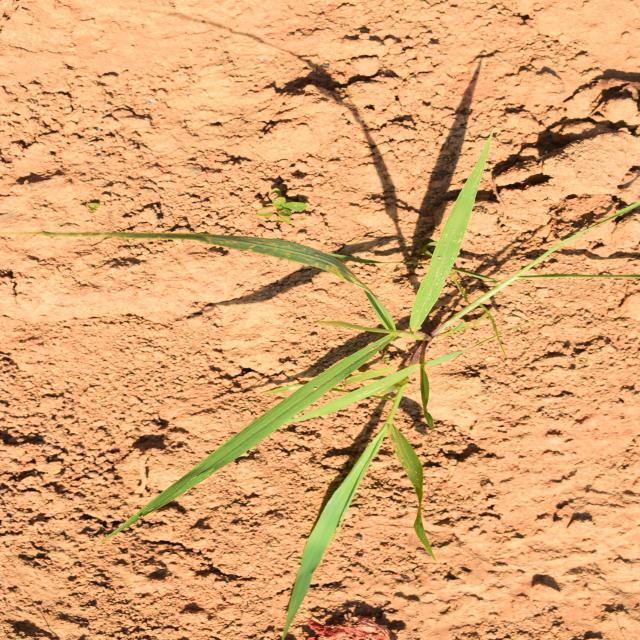green_foxtail: (173, 143, 545, 509)
